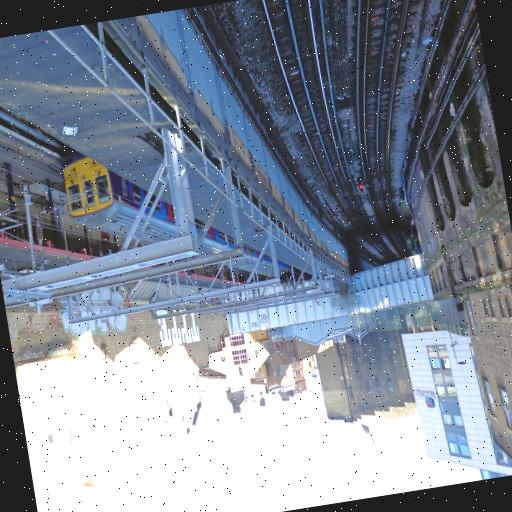platform_edge: (0, 80, 55, 182)
